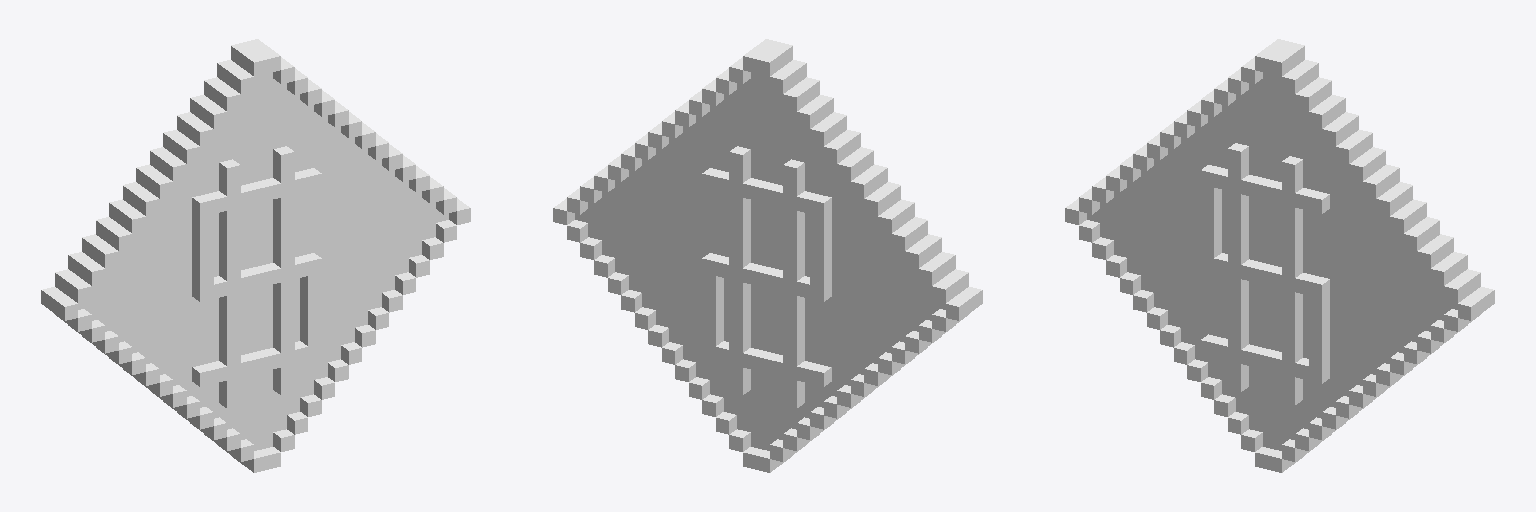
Rendered from Coin1.obj.
3 renders of one model, left to right at view 1: azimuth 30°, elevation 25°; view 2: azimuth 150°, elevation 25°; view 3: azimuth 330°, elevation 25°, orthographic.
Parts seen in each view (by area): view 1: Coin1; view 2: Coin1; view 3: Coin1.
Boxes of the visible parts, box(x1,y1,x2,y2) form: Coin1: box(41, 39, 470, 472); Coin1: box(553, 39, 982, 472); Coin1: box(1065, 39, 1494, 472).
Size of the model in its own units: 30 by 29 by 3.